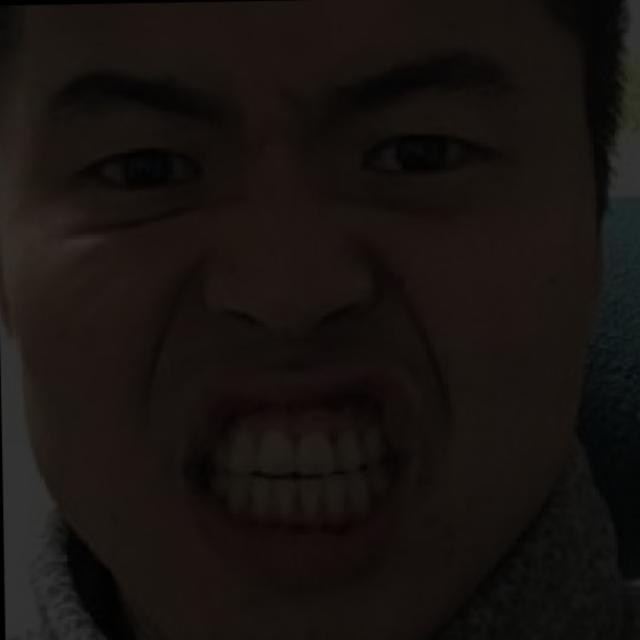Angry: (27, 37, 558, 613)
